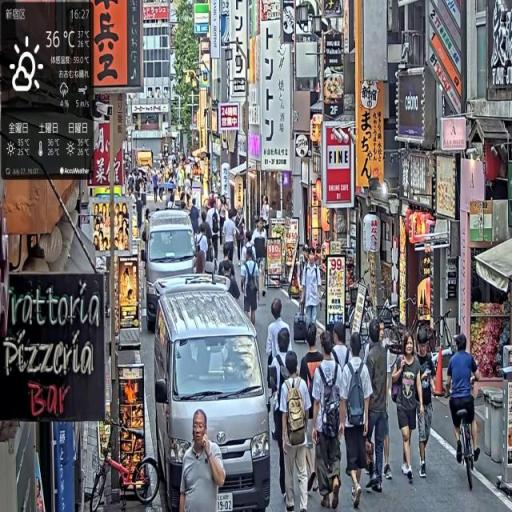person: (311, 333, 346, 512), (340, 334, 375, 510), (364, 320, 396, 496), (280, 347, 314, 512), (391, 334, 425, 484), (445, 333, 482, 469), (179, 408, 227, 512), (299, 324, 325, 499), (415, 333, 440, 479), (241, 246, 262, 326), (254, 220, 271, 305), (223, 211, 238, 267)
